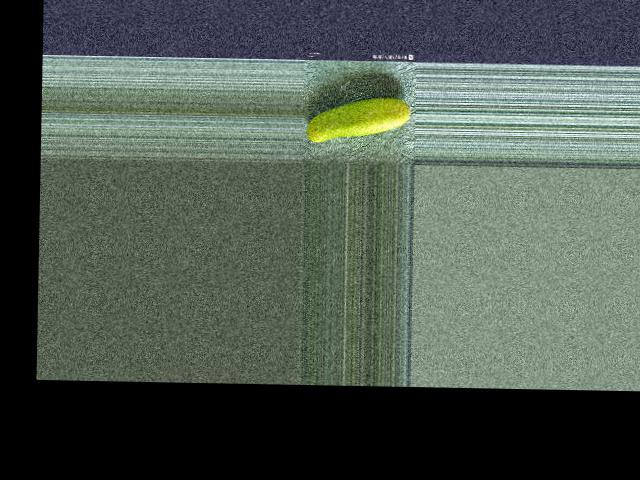cucumber: (305, 96, 410, 144)
